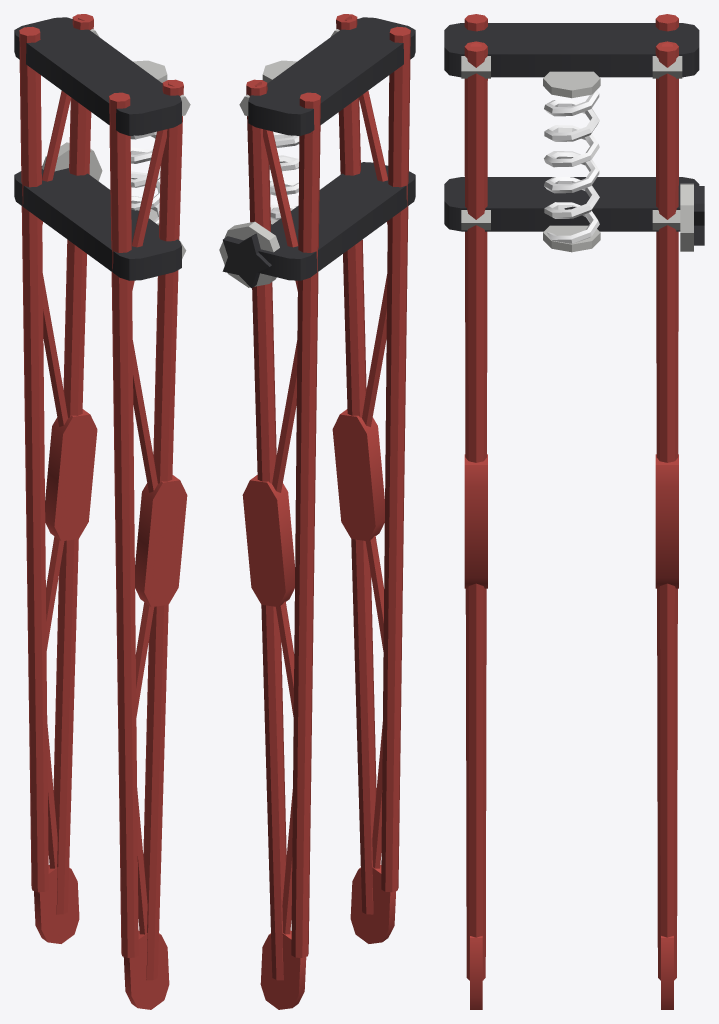
Rendered from chopper_girder_upper_lod1.glb.
The picture shows the model from 3 angles, left to right: view 1: azimuth 30°, elevation 25°; view 2: azimuth 150°, elevation 25°; view 3: azimuth 270°, elevation 25°; orthographic projection. The views are drawn at different scales.
Parts seen in each view (by area): view 1: chopper_girder_upper_lod1; view 2: chopper_girder_upper_lod1; view 3: chopper_girder_upper_lod1.
Boxes of the visible parts, left/top/right/bottom form: chopper_girder_upper_lod1: left=14, top=14, right=190, bottom=1009; chopper_girder_upper_lod1: left=219, top=14, right=415, bottom=1009; chopper_girder_upper_lod1: left=444, top=14, right=704, bottom=1009.
Bounding box in the file's own units: 0.115 × 1.02 × 0.245.
